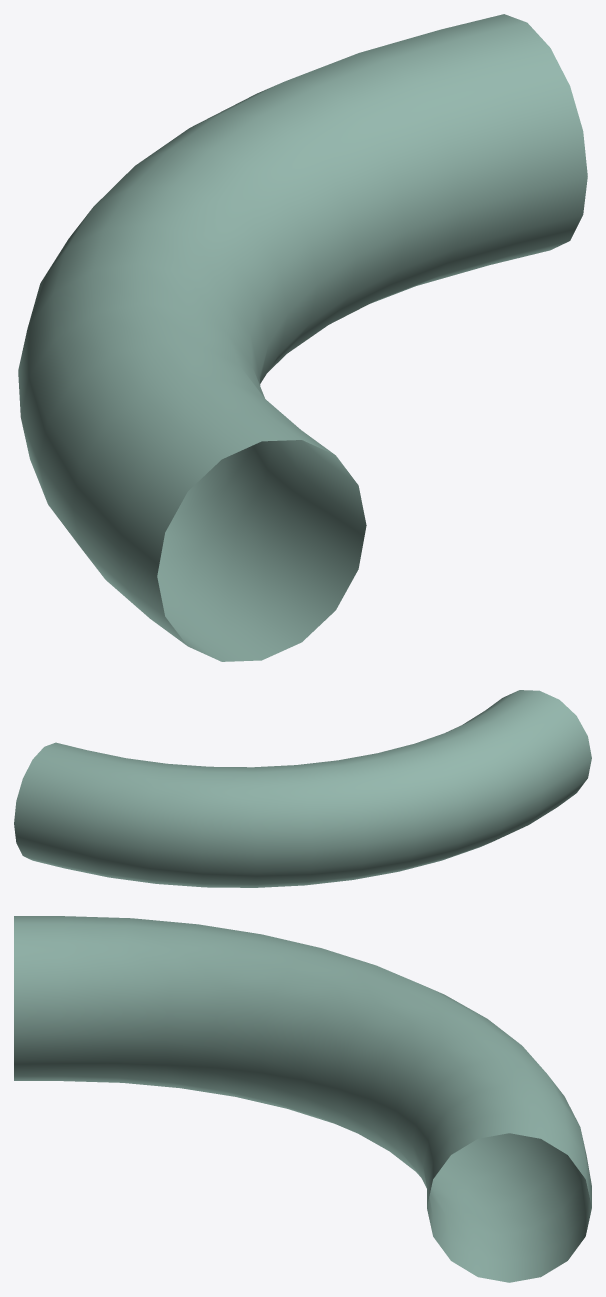
The model's file is PipeLarge_Bent_03.fbx.
3 views of the same model, one above another, from view 1: azimuth 30°, elevation 25°; view 2: azimuth 150°, elevation 25°; view 3: azimuth 270°, elevation 25° (orthographic). The views are drawn at different scales.
Visible parts, largest first — view 1: PipeLarge_Bent_03.001; view 2: PipeLarge_Bent_03.001; view 3: PipeLarge_Bent_03.001.
Boxes of the visible parts, x1=… form: PipeLarge_Bent_03.001: x1=18, y1=14, x2=587, y2=661; PipeLarge_Bent_03.001: x1=14, y1=690, x2=591, y2=887; PipeLarge_Bent_03.001: x1=14, y1=916, x2=591, y2=1282.
Bounding box in the file's own units: 0.7 × 0.2 × 0.7.
